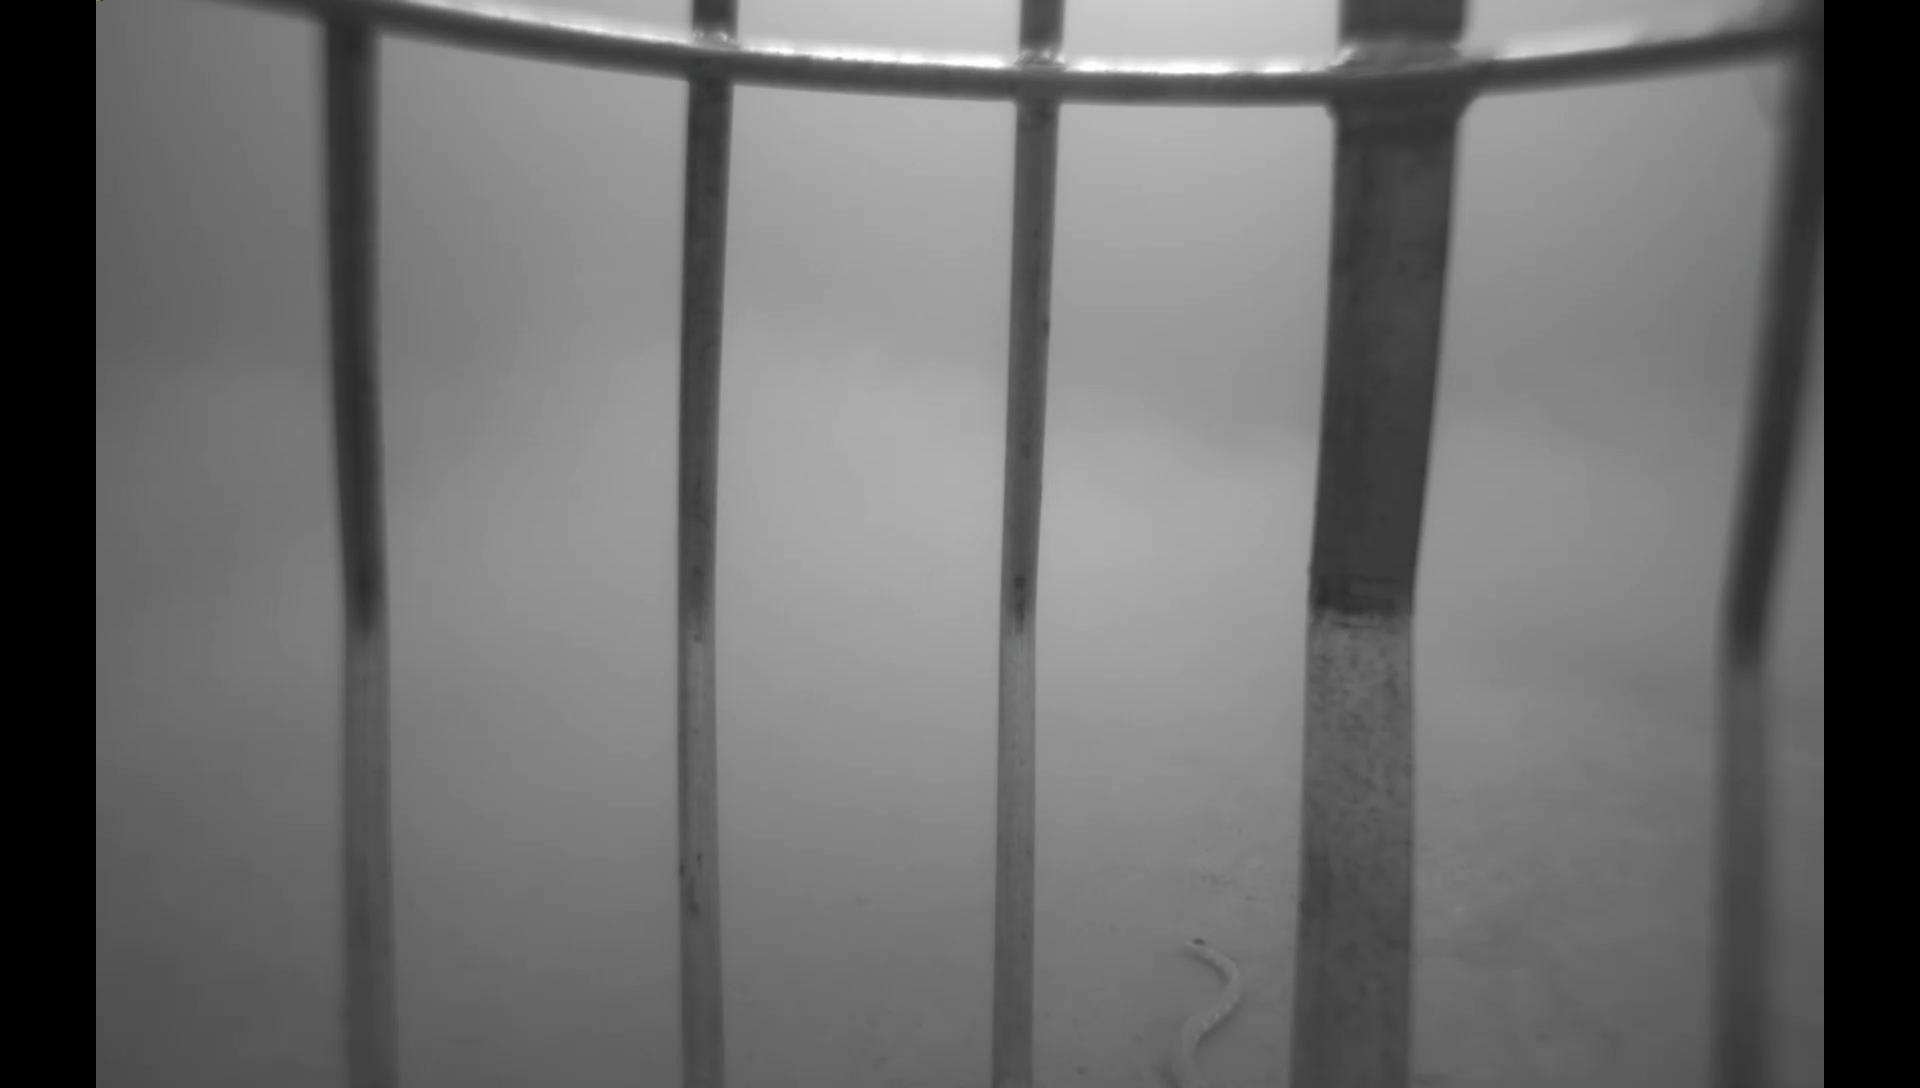OPHICHTHUSPUNCTICEPS-143150402: (1160, 928, 1247, 1088)
